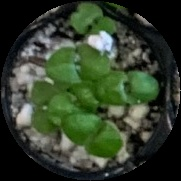Basil: (68, 111, 122, 158), (91, 72, 163, 106), (51, 80, 105, 119), (48, 44, 107, 79), (70, 1, 114, 37), (37, 80, 58, 132)
